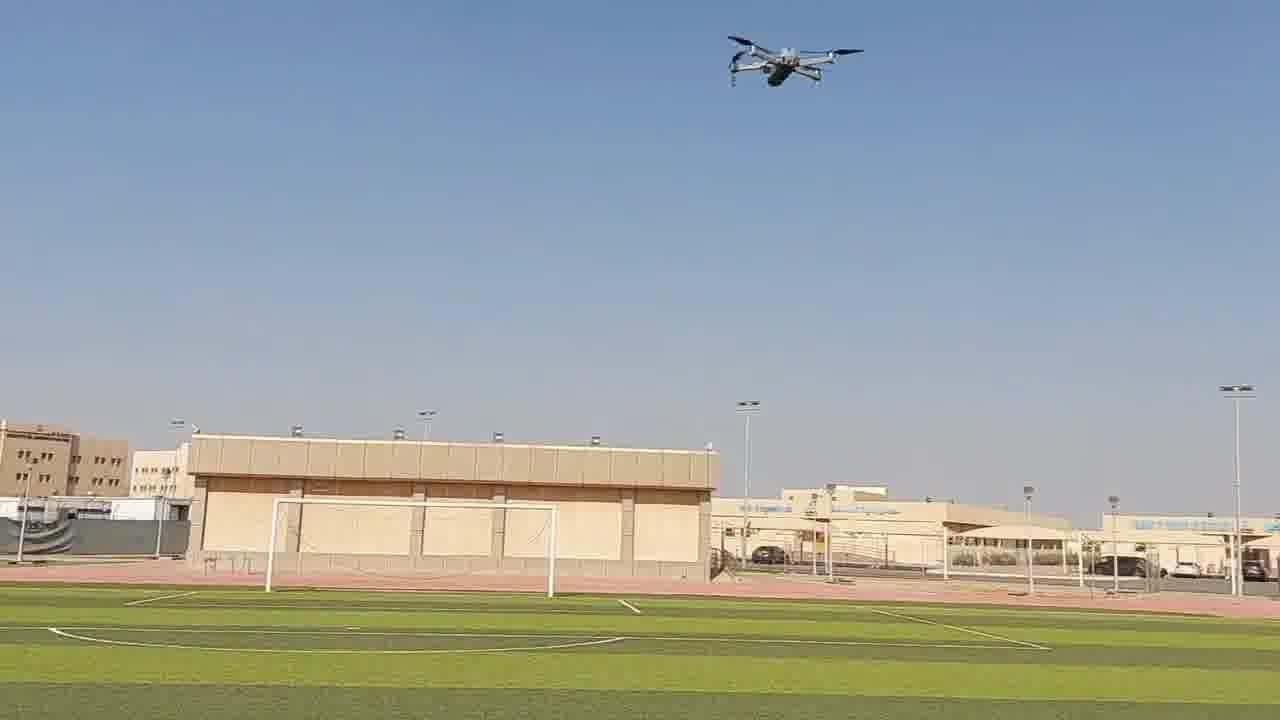drone: (711, 30, 874, 98)
